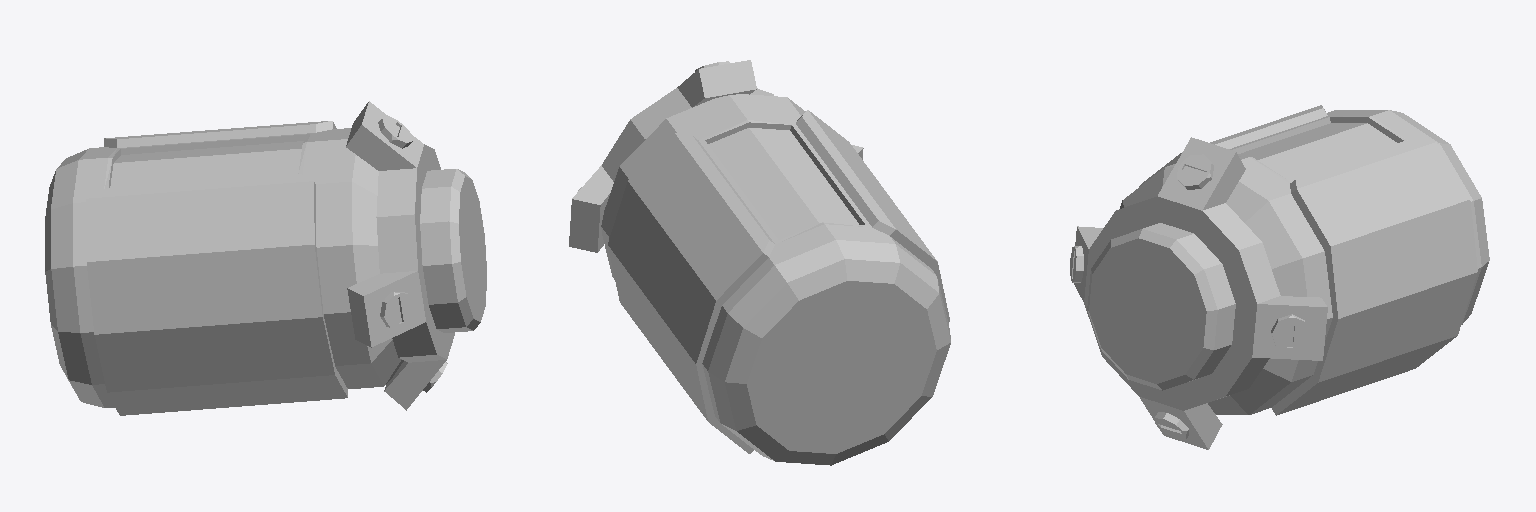
Rendered from Pickup_Tank_Cylinder_005.obj.
3 renders of one model, left to right at view 1: azimuth 30°, elevation 25°; view 2: azimuth 150°, elevation 25°; view 3: azimuth 270°, elevation 25°, orthographic.
Visible parts, largest first — view 1: Pickup_Tank_Cylinder.005; view 2: Pickup_Tank_Cylinder.005; view 3: Pickup_Tank_Cylinder.005.
Boxes of the visible parts, x1=… form: Pickup_Tank_Cylinder.005: x1=45, y1=101, x2=486, y2=415; Pickup_Tank_Cylinder.005: x1=569, y1=60, x2=950, y2=465; Pickup_Tank_Cylinder.005: x1=1070, y1=105, x2=1489, y2=449.
Bounding box in the file's own units: 0.2797 × 0.2085 × 0.2666.